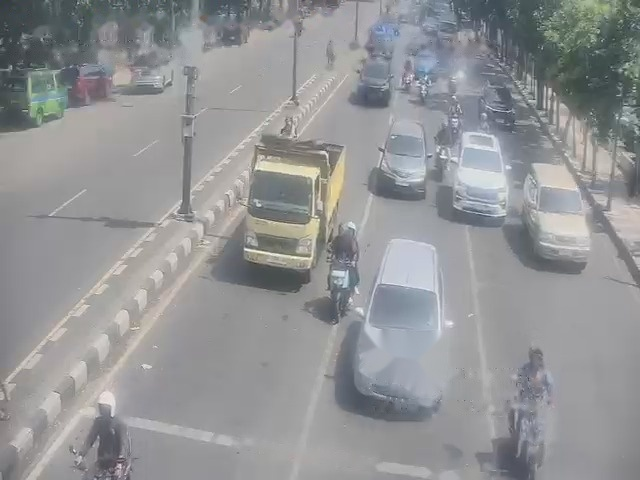Mobil: (363, 236, 449, 412), (524, 163, 592, 262), (448, 127, 510, 222), (371, 114, 425, 199), (480, 73, 519, 129), (352, 59, 389, 105)
Motor: (510, 401, 544, 479), (328, 257, 353, 323), (74, 458, 130, 479), (330, 254, 352, 304), (435, 145, 450, 180), (447, 70, 465, 95), (436, 145, 451, 174), (280, 116, 297, 139), (448, 115, 461, 142), (418, 77, 430, 104), (402, 72, 414, 92), (479, 112, 490, 133), (448, 75, 456, 94)
Truk: (246, 135, 341, 272)
